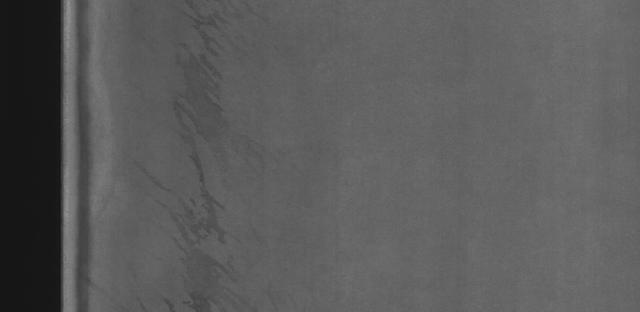water_spot: (159, 3, 265, 311)
